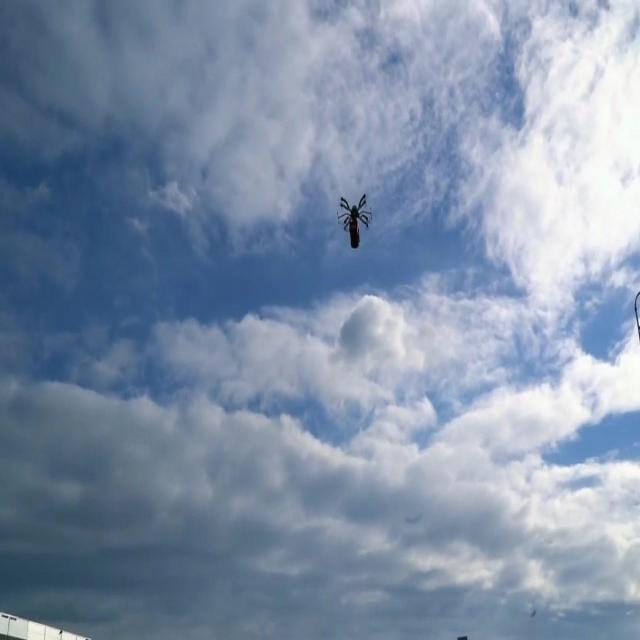drone: (334, 195, 373, 251)
